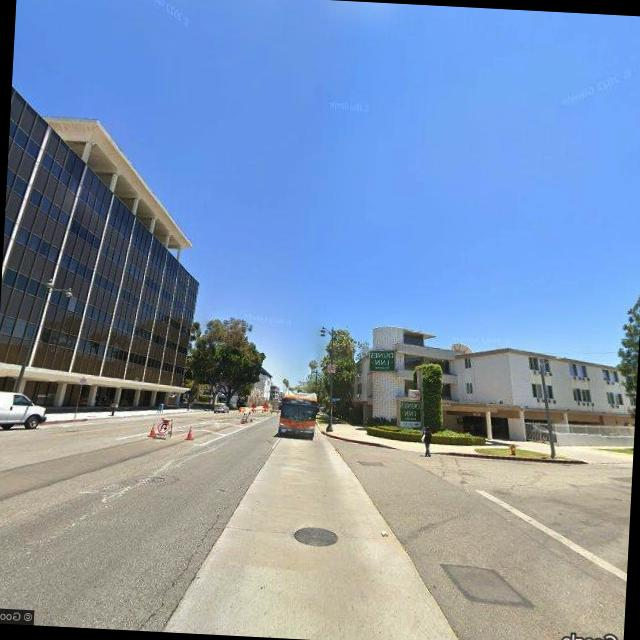pothole: (140, 500, 232, 632)
